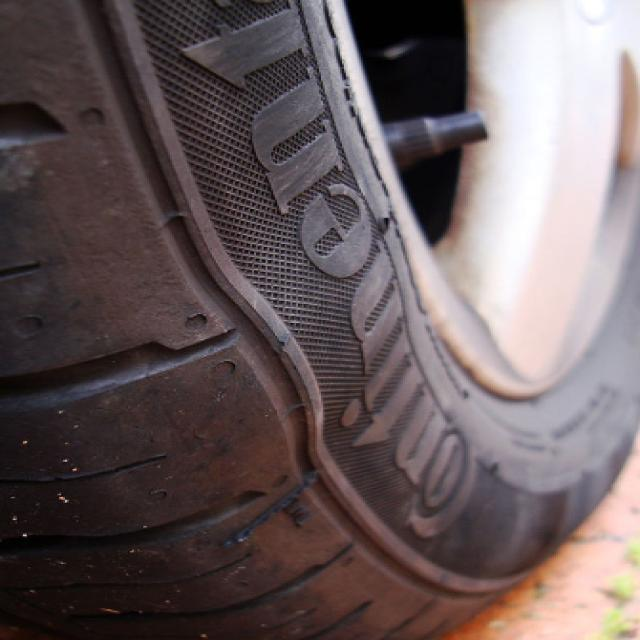Bulge: (83, 276, 398, 514)
